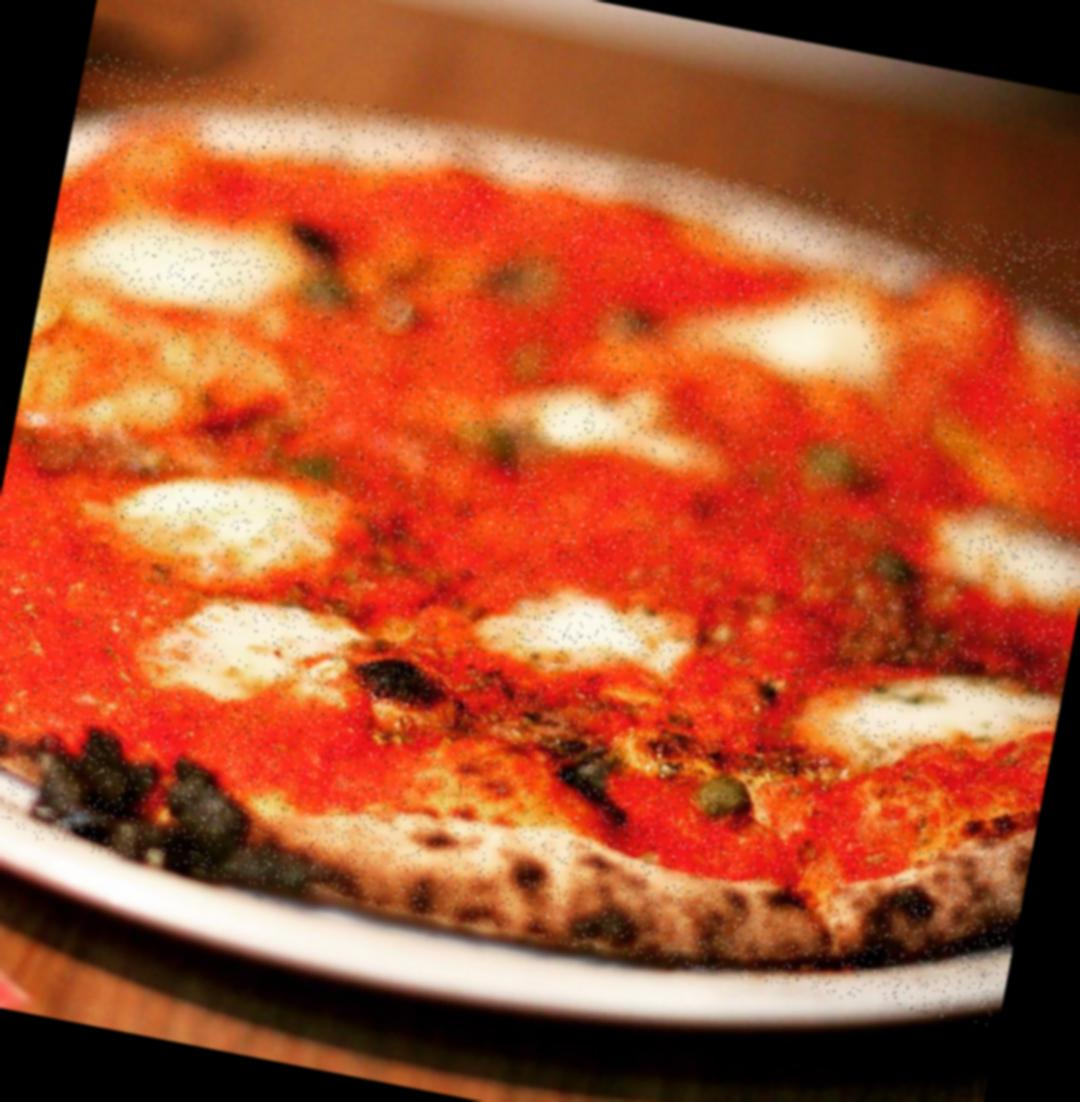Cheese: (148, 482, 302, 566), (516, 589, 652, 664), (877, 682, 1018, 747), (113, 230, 242, 296), (960, 529, 1080, 589), (186, 612, 268, 696), (766, 316, 864, 370), (548, 393, 636, 448)
Pizza: (0, 49, 1080, 1028)
